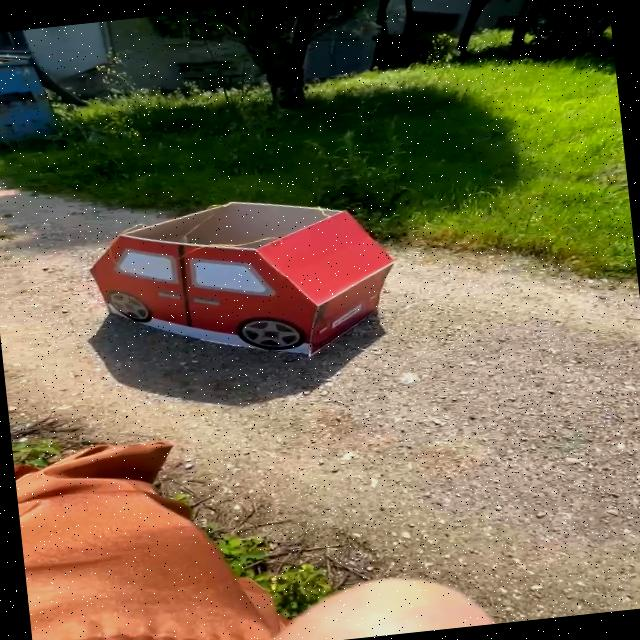red_car: (68, 173, 423, 398)
